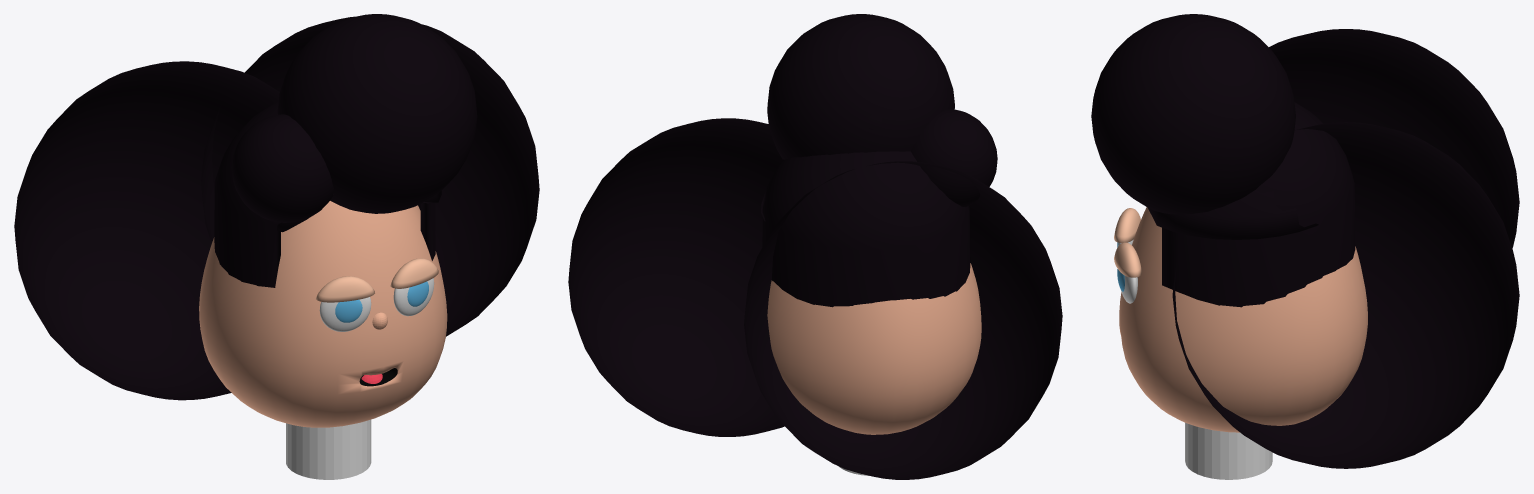
Rendered from avatar_1.glb.
3 renders of one model, left to right at view 1: azimuth 30°, elevation 25°; view 2: azimuth 150°, elevation 25°; view 3: azimuth 270°, elevation 25°, orthographic. The views are drawn at different scales.
Parts seen in each view (by area): view 1: cheveux 2, Cheveux 1, Face, Cou, paupière droit, paupière gauche, oeuil gauche, oeuil droit; view 2: cheveux 2, Cheveux 1, Face; view 3: cheveux 2, Cheveux 1, Face, Cou, paupière gauche, paupière droit.
Boxes of the visible parts, left/top/right/bottom form: cheveux 2: left=14, top=16, right=539, bottom=400; Cheveux 1: left=214, top=14, right=477, bottom=287; Face: left=199, top=201, right=447, bottom=427; Cou: left=286, top=419, right=371, bottom=479; paupière droit: left=315, top=276, right=374, bottom=302; paupière gauche: left=390, top=258, right=438, bottom=288; oeuil gauche: left=319, top=297, right=371, bottom=331; oeuil droit: left=393, top=278, right=434, bottom=316; cheveux 2: left=568, top=115, right=1062, bottom=479; Cheveux 1: left=762, top=14, right=997, bottom=307; Face: left=767, top=263, right=981, bottom=434; cheveux 2: left=1148, top=29, right=1519, bottom=468; Cheveux 1: left=1091, top=14, right=1355, bottom=307; Face: left=1119, top=207, right=1367, bottom=432; Cou: left=1185, top=422, right=1272, bottom=479; paupière gauche: left=1114, top=242, right=1141, bottom=277; paupière droit: left=1114, top=208, right=1140, bottom=243.
Bounding box in the file's own units: 1.6 × 1.41 × 1.21.
